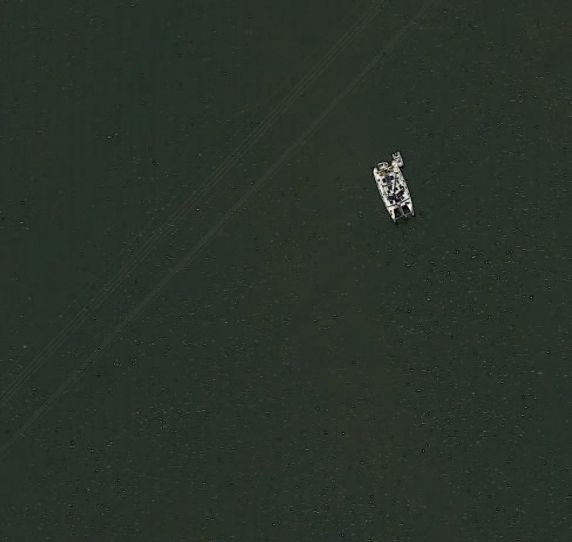boat: (370, 158, 417, 224)
